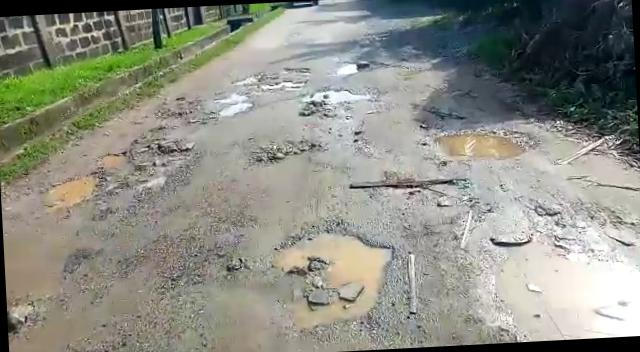pothole: (487, 239, 640, 343), (272, 220, 400, 330), (98, 121, 194, 177), (426, 124, 541, 162), (165, 250, 244, 287), (294, 85, 375, 116), (41, 170, 100, 210), (202, 92, 254, 120), (240, 72, 316, 90)
